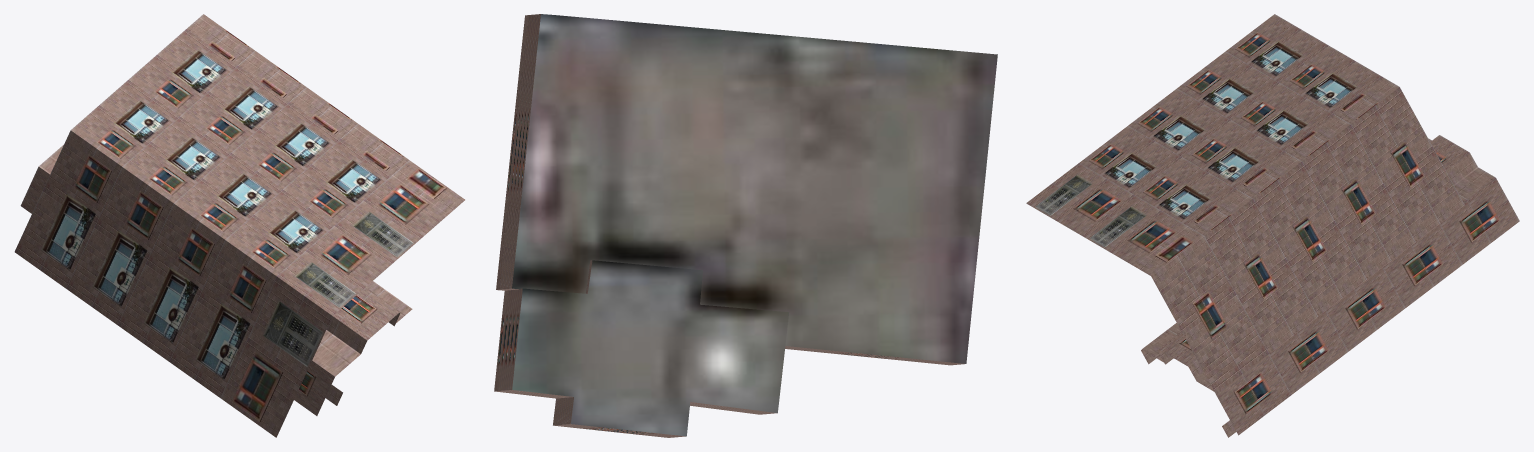
The picture shows the model from 3 angles, left to right: view 1: azimuth 30°, elevation 25°; view 2: azimuth 150°, elevation 25°; view 3: azimuth 270°, elevation 25°; orthographic projection. The views are drawn at different scales.
Size of the model in its own units: 19.03 by 16.79 by 23.57.
Materials: 8 (8 with a texture image).
